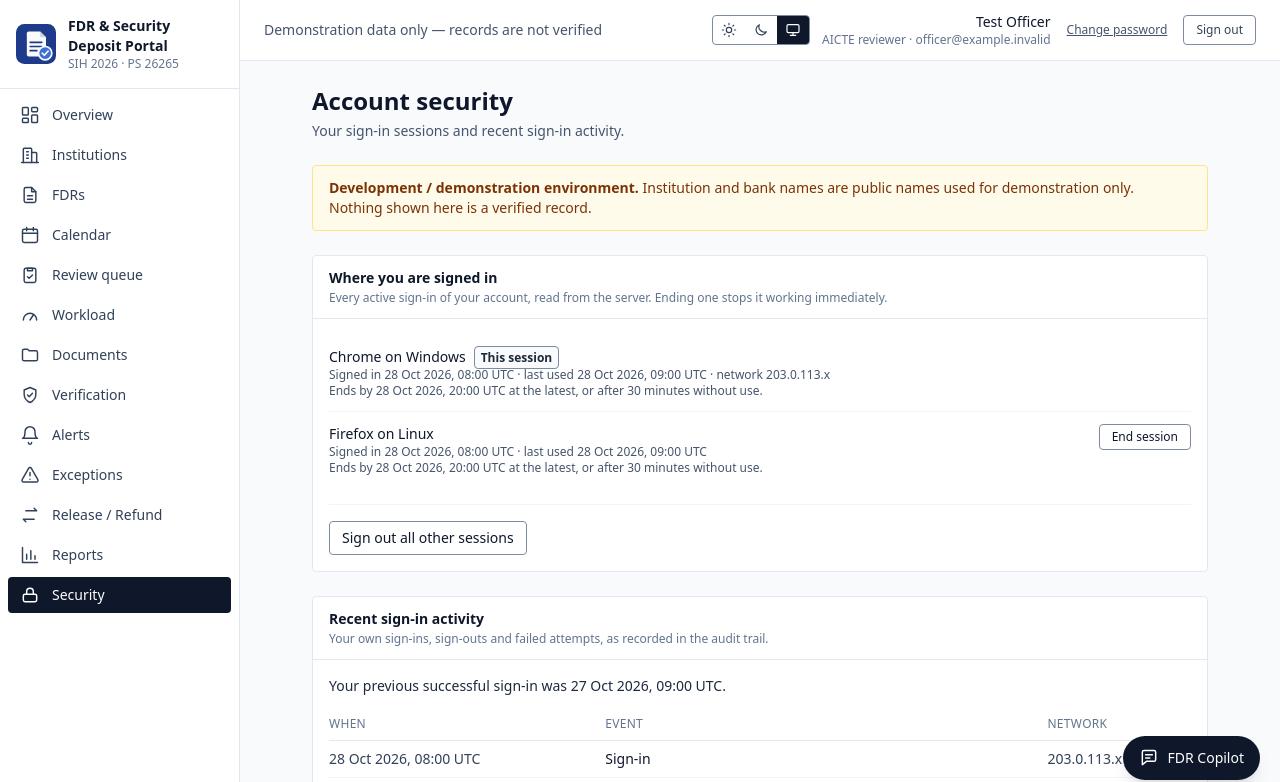
Test: account security page › explains a failure when the session has already ended, and nothing is claimed to have ended
Click the button with aria-label "End the Firefox on Linux session": (1145, 437) [1099,424,1191,450]
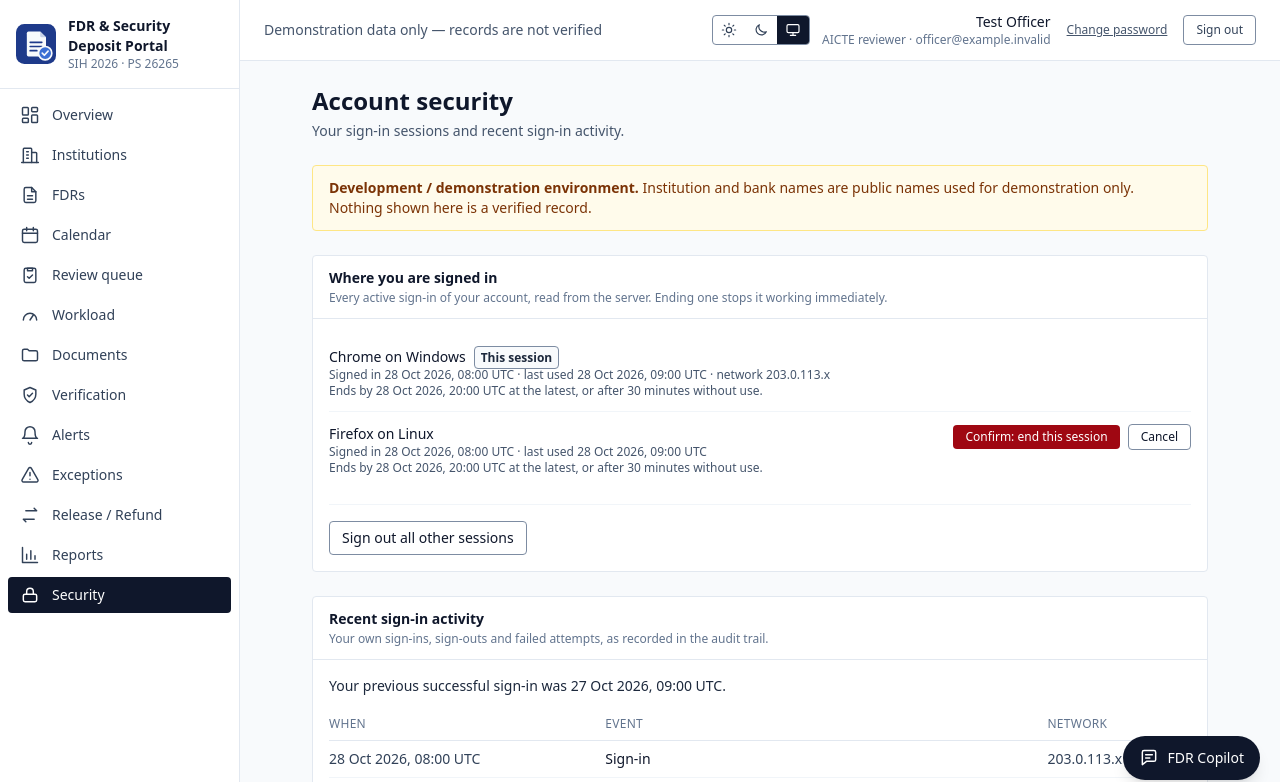
Click the button "Confirm: end this session": (1037, 437) [954,425,1120,449]
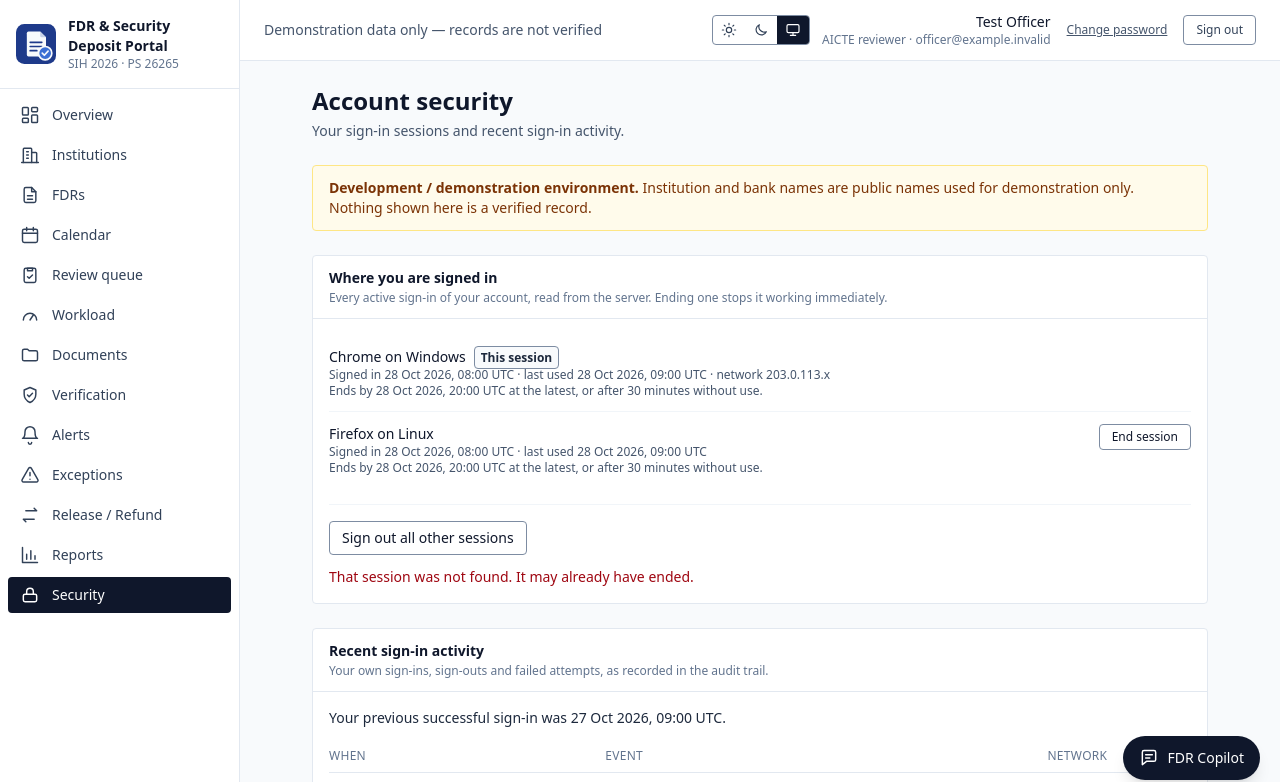
Now the message shows "not found. It may already have ended", box [329,567,694,586]
